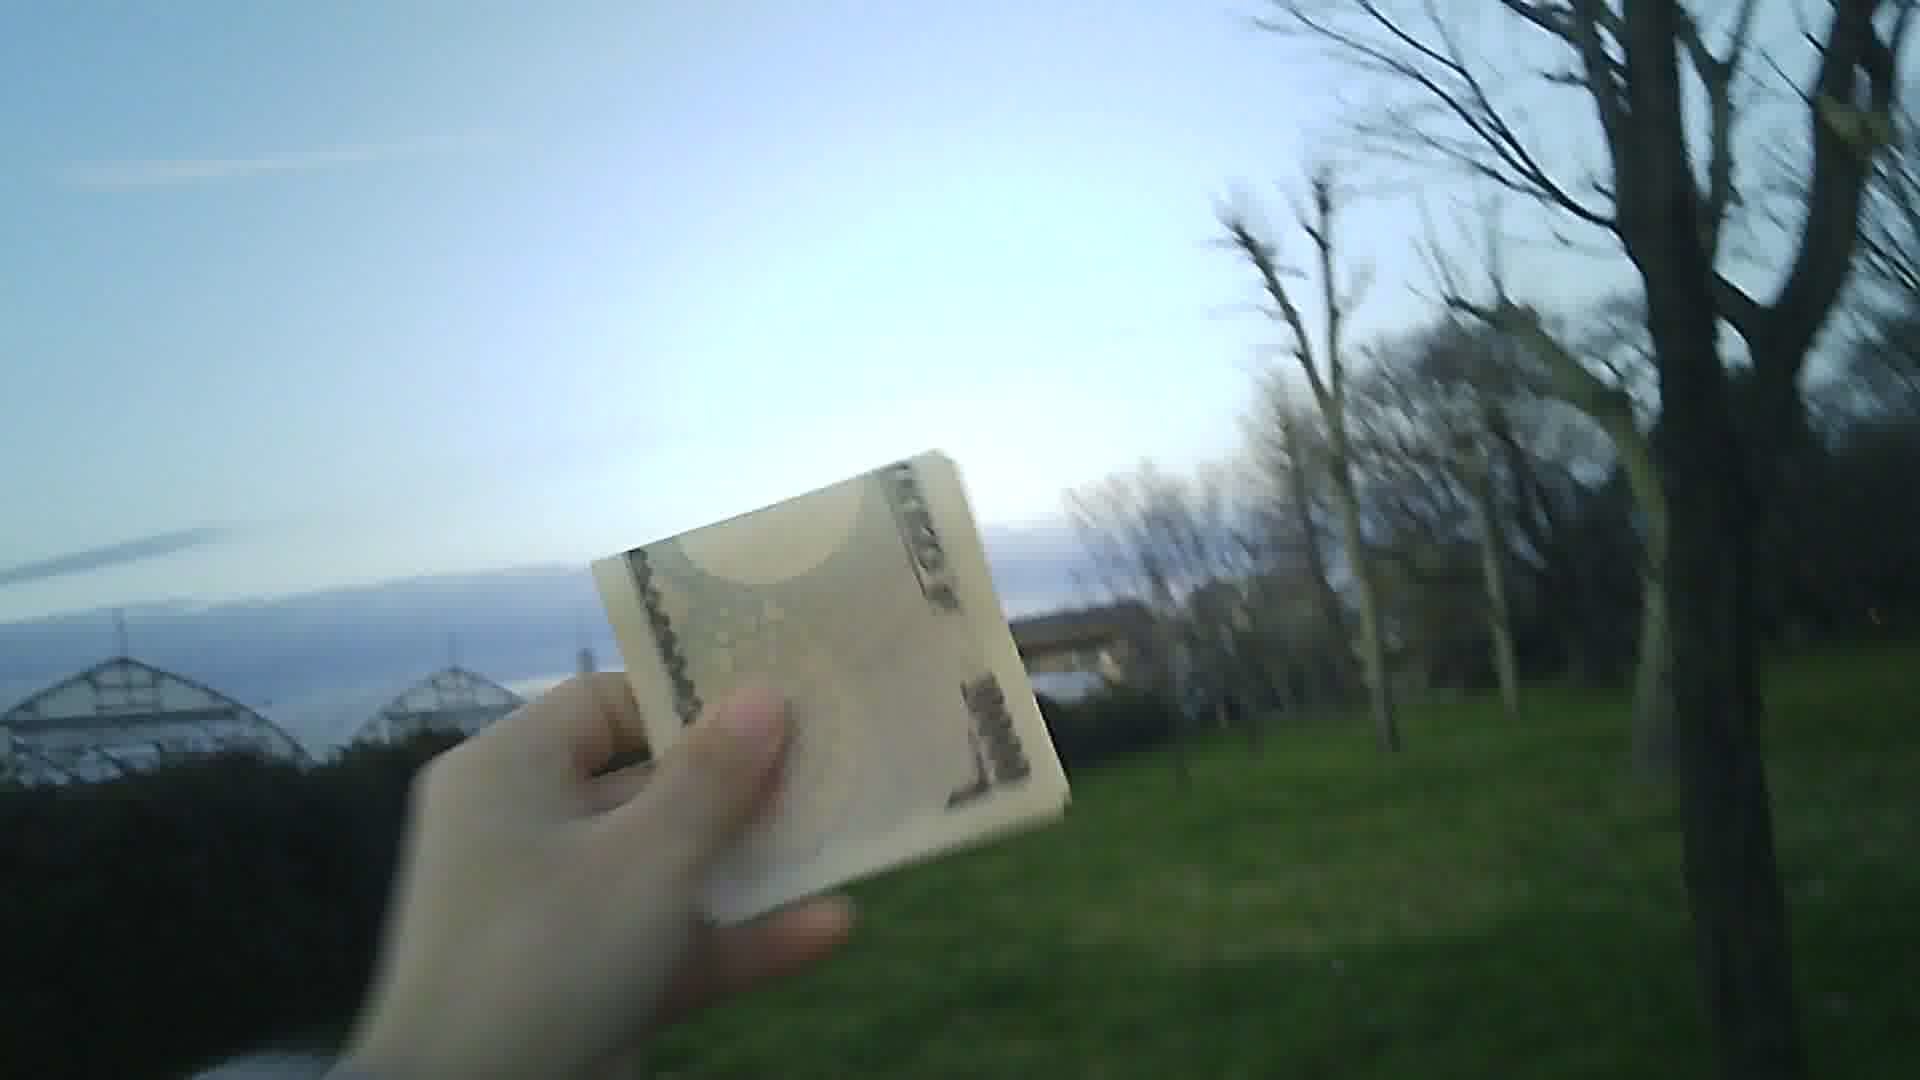10,000 Yen: (575, 459, 1075, 880)
